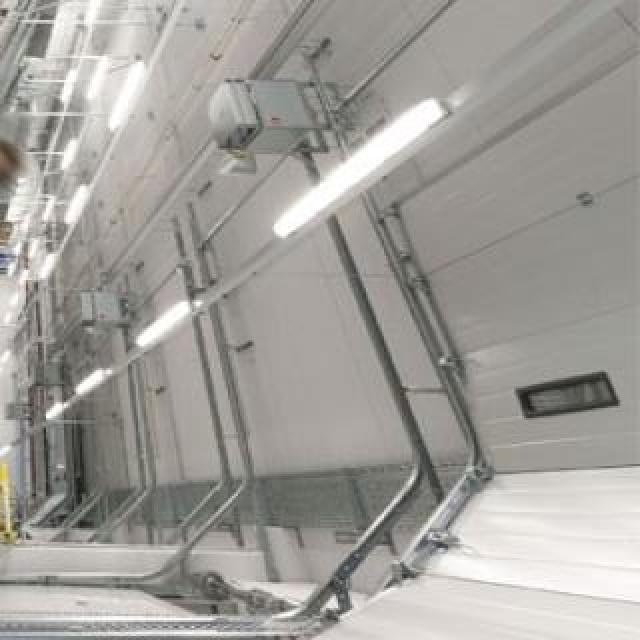fluorescent tube: (260, 33, 500, 238), (99, 36, 177, 133), (127, 275, 217, 353), (58, 353, 122, 407), (78, 38, 129, 102), (47, 122, 97, 178), (22, 229, 62, 295), (60, 164, 98, 231), (68, 0, 120, 40)
